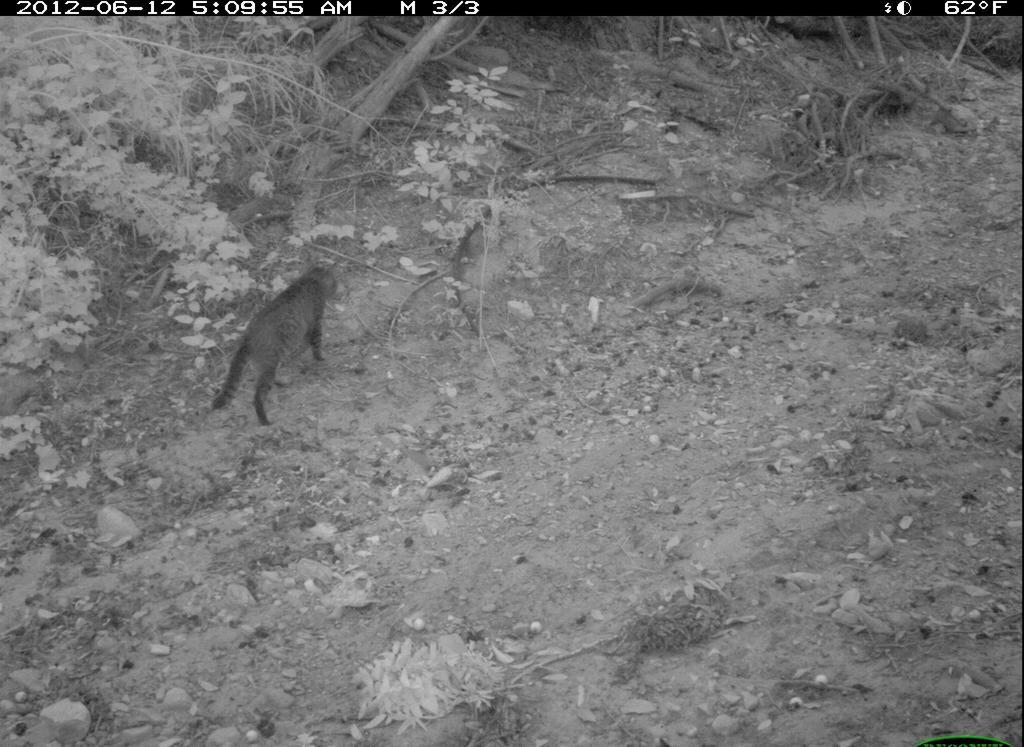cat: (218, 253, 342, 442)
